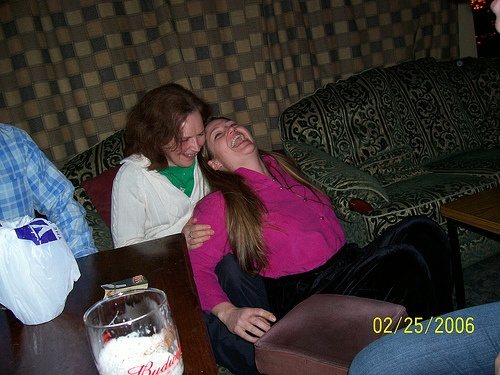head: (137, 85, 208, 170), (201, 114, 264, 174)
person: (196, 104, 469, 356), (109, 72, 280, 375)
